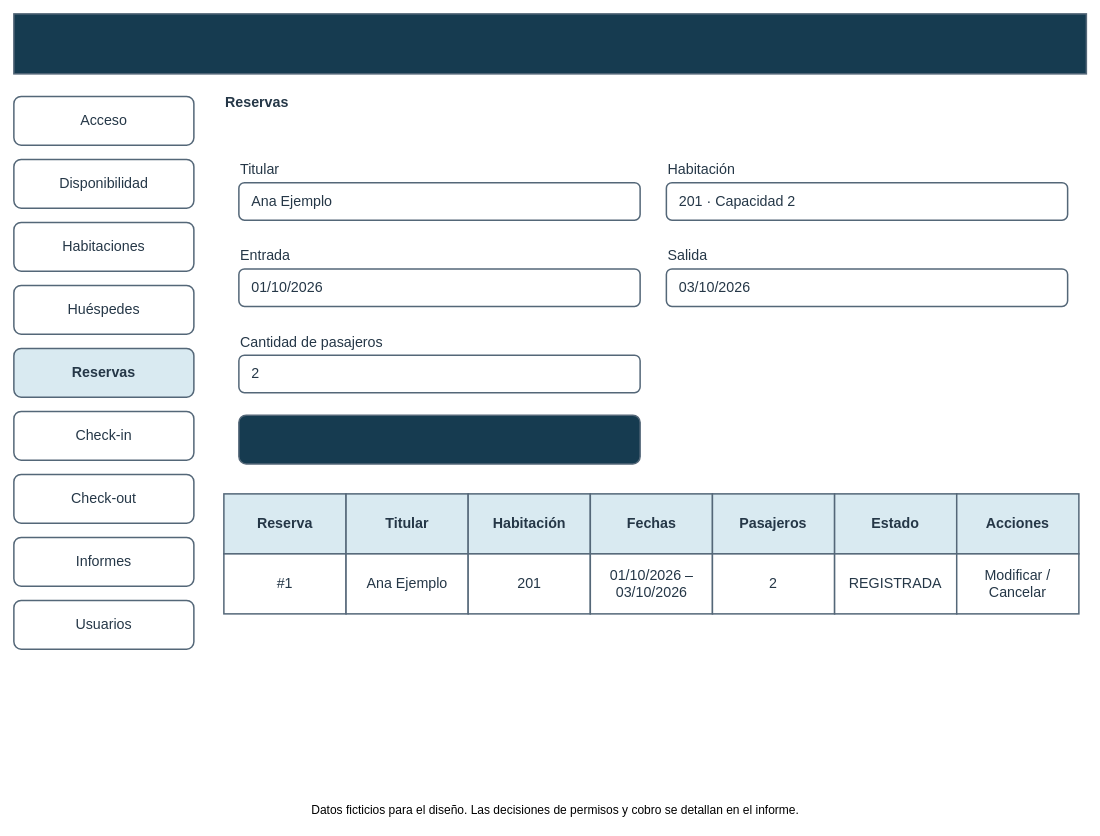
This 1100x836 diagram has some shape labels left out. The centre of each missing label's shape, as x and y in pixels:
Guardar reserva: the point at 439,439
Hotel Duerme Bien · Sistema de pasajeros: the point at 550,43
